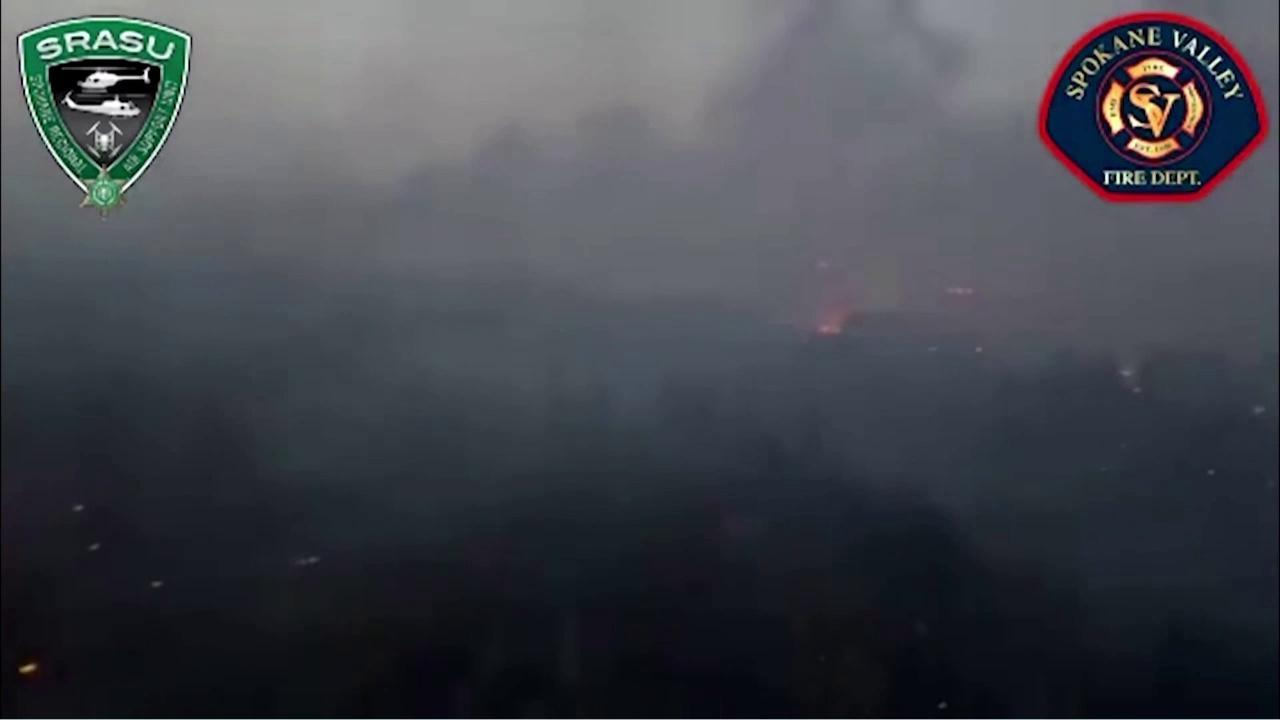fire: (813, 322, 845, 338), (13, 660, 40, 677)
smoke: (4, 0, 1280, 695)
